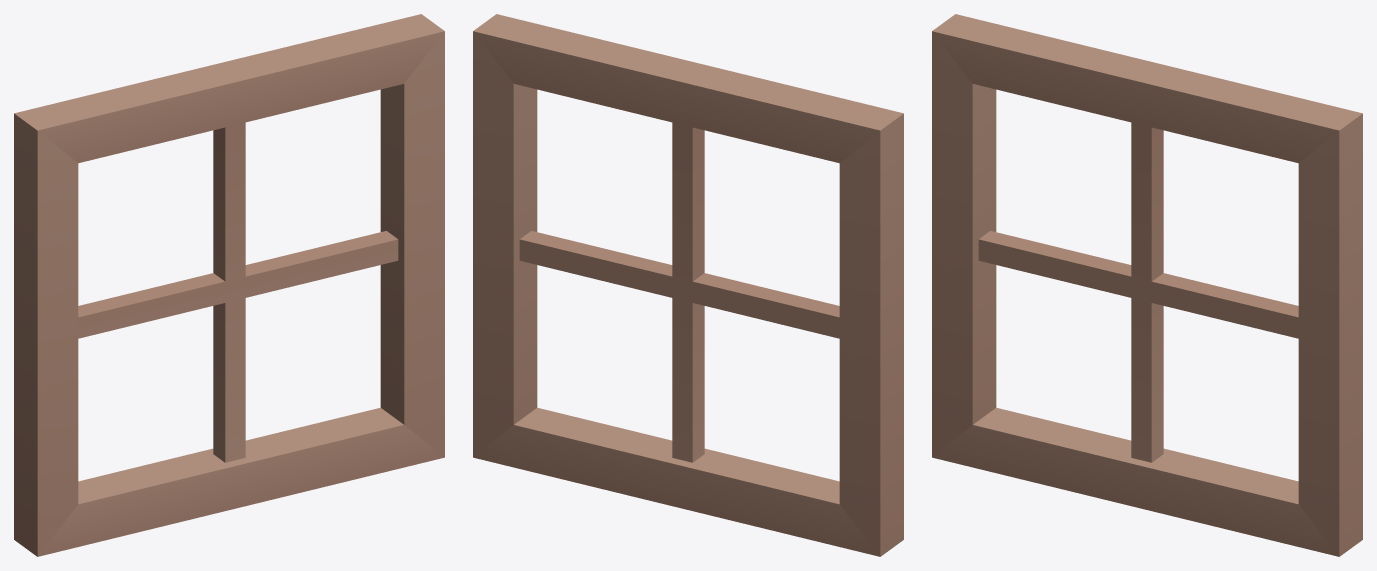
The model's file is frame-a.glb.
3 renders of one model, left to right at view 1: azimuth 30°, elevation 25°; view 2: azimuth 150°, elevation 25°; view 3: azimuth 330°, elevation 25°, orthographic.
Parts seen in each view (by area): view 1: frame-a; view 2: frame-a; view 3: frame-a.
Boxes of the visible parts, x1,y1,x2,y2 form: frame-a: (14,14,444,556); frame-a: (473,14,903,556); frame-a: (932,14,1362,556).
Size of the model in its own units: 1 by 1 by 0.1.
